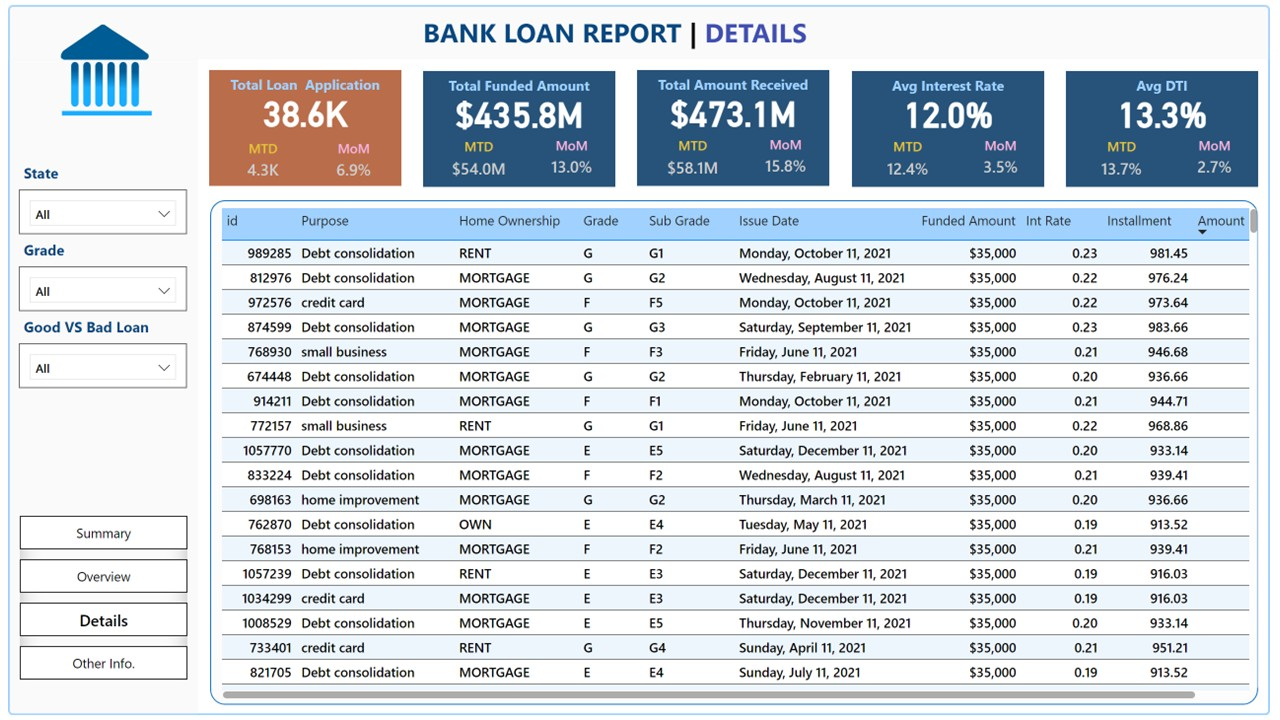

The dashboard page shown, as its layout file describes it:
{"tool":"powerbi","page":{"name":"Details","canvas":[1280,720],"ordinal":2},"visuals":[{"type":"shape","box":[0,0,1280,720.2],"z":0},{"type":"shape","box":[638.4,65.8,195,117.5],"z":0,"group":"g2"},{"type":"shape","box":[203.8,66.2,195,117.5],"z":0,"group":"g1"},{"type":"shape","box":[420.5,67,195,117.5],"z":0,"group":"g5"},{"type":"shape","box":[856.2,67,195,117.5],"z":0,"group":"g3"},{"type":"shape","box":[1072.8,67,195,117.5],"z":0,"group":"g4"},{"type":"card","fields":{"Values":["bank_loan_data.Total Amount Received"]},"box":[638.4,83.3,195,47.5],"z":1000,"group":"g2"},{"type":"card","fields":{"Values":["bank_loan_data.Total Loan Applications"]},"box":[203.8,83.7,195,47.5],"z":1000,"group":"g1"},{"type":"card","fields":{"Values":["bank_loan_data.Total Funded Amount"]},"box":[420.5,84.5,195,47.5],"z":1000,"group":"g5"},{"type":"card","fields":{"Values":["bank_loan_data.Avg Interest Rate"]},"box":[856.2,84.5,195,47.5],"z":1000,"group":"g3"},{"type":"card","fields":{"Values":["bank_loan_data.Avg DTI"]},"box":[1072.8,84.5,195,47.5],"z":1000,"group":"g4"},{"type":"shape","box":[205.1,197.9,1062.9,511.5],"z":1000},{"type":"textbox","box":[638.4,65.8,195,35],"z":2000,"group":"g2"},{"type":"group","id":"g1","title":"Group 1","box":[203.8,66.2,195,117.5],"z":2000},{"type":"textbox","box":[203.8,66.2,195,35],"z":2000,"group":"g1"},{"type":"textbox","box":[420.5,67,195,35],"z":2000,"group":"g5"},{"type":"textbox","box":[856.2,67,195,35],"z":2000,"group":"g3"},{"type":"textbox","box":[1072.8,67,195,35],"z":2000,"group":"g4"},{"type":"group","id":"g2","title":"Group 1","box":[638.4,65.8,196.1,118.9],"z":3000},{"type":"card","title":"MTD","fields":{"Values":["bank_loan_data.MTD Total Amount Received"]},"box":[660.6,133,68.8,50],"z":3000,"group":"g2"},{"type":"card","title":"MTD","fields":{"Values":["bank_loan_data.MTD Funded Amount"]},"box":[442.7,134.2,68.8,50],"z":3000,"group":"g5"},{"type":"card","title":"MTD","fields":{"Values":["bank_loan_data.MTD Avg Interest Rate"]},"box":[878.4,134.2,68.8,50],"z":3000,"group":"g3"},{"type":"card","title":"MTD","fields":{"Values":["bank_loan_data.MTD Avg DIT"]},"box":[1095,134.2,68.8,50],"z":3000,"group":"g4"},{"type":"card","title":"MTD","fields":{"Values":["bank_loan_data.MTD Loan Applications"]},"box":[227.6,136.2,61.2,47.5],"z":3000,"group":"g1"},{"type":"group","id":"g3","title":"Group 1","box":[856.2,67,194.8,118.9],"z":4000},{"type":"card","title":"MoM","fields":{"Values":["bank_loan_data.MoM Total Amount Received"]},"box":[758.1,131.7,61.2,47.5],"z":4000,"group":"g2"},{"type":"card","title":"MoM","fields":{"Values":["bank_loan_data.MoM Total Funded Amount"]},"box":[540.2,132.9,61.2,47.5],"z":4000,"group":"g5"},{"type":"card","title":"MoM","fields":{"Values":["bank_loan_data.MoM Avg Interest Rate"]},"box":[975.9,132.9,61.2,47.5],"z":4000,"group":"g3"},{"type":"card","title":"MoM","fields":{"Values":["bank_loan_data.MoM Avg DTI"]},"box":[1192.5,132.9,61.2,47.5],"z":4000,"group":"g4"},{"type":"card","title":"MoM","fields":{"Values":["bank_loan_data.MoM Loan Application"]},"box":[320,136.2,61.2,47.5],"z":4000,"group":"g1"},{"type":"group","id":"g4","title":"Group 1","box":[1072.8,67,194.8,118.9],"z":5000},{"type":"group","id":"g5","title":"Group 1","box":[420.5,67,196.1,118.9],"z":6000},{"type":"shape","box":[1.2,55.3,191.8,664.7],"z":7000},{"type":"tableEx","fields":{"Values":["bank_loan_data.id","bank_loan_data.purpose","bank_loan_data.home_ownership","bank_loan_data.grade","bank_loan_data.sub_grade","bank_loan_data.issue_date","bank_loan_data.Total Funded Amount","Sum(bank_loan_data.int_rate)","Sum(bank_loan_data.installment)","bank_loan_data.Total Amount Received"]},"box":[210.7,201.3,1062,508],"z":8000},{"type":"shape","box":[0,0,1280,55.5],"z":9000},{"type":"textbox","box":[416.2,3.8,447.5,46.2],"z":10000},{"type":"image","box":[30.2,2.4,131.5,127.9],"z":11000},{"type":"slicer","fields":{"Values":["bank_loan_data.grade"]},"box":[11.1,265.1,170.4,45.7],"z":12000},{"type":"textbox","box":[11.1,155.2,69.1,32.1],"z":13000},{"type":"slicer","fields":{"Values":["bank_loan_data.address_state"]},"box":[11.1,187.3,170.4,45.7],"z":14000},{"type":"textbox","box":[11.1,233,69.1,32.1],"z":15000},{"type":"slicer","fields":{"Values":["bank_loan_data.Good VS Bad Loan"]},"box":[11.1,342.9,170.4,45.7],"z":16000},{"type":"textbox","box":[10.9,310.5,154.4,32.6],"z":17000},{"type":"pageNavigator","box":[12.1,517.6,170.1,166.5],"z":18000}]}

Visuals, with their boxes in screenshot pixels (x1, y1, x2, y2), scaled from the page's 1280x720 canvas onto the 1280x720 screenshot:
shape: x1=0, y1=0, x2=1279, y2=719
shape: x1=638, y1=66, x2=833, y2=183
shape: x1=204, y1=66, x2=399, y2=184
shape: x1=420, y1=67, x2=616, y2=184
shape: x1=856, y1=67, x2=1051, y2=184
shape: x1=1073, y1=67, x2=1268, y2=184
card - bank_loan_data.Total Amount Received: x1=638, y1=83, x2=833, y2=131
card - bank_loan_data.Total Loan Applications: x1=204, y1=84, x2=399, y2=131
card - bank_loan_data.Total Funded Amount: x1=420, y1=84, x2=616, y2=132
card - bank_loan_data.Avg Interest Rate: x1=856, y1=84, x2=1051, y2=132
card - bank_loan_data.Avg DTI: x1=1073, y1=84, x2=1268, y2=132
shape: x1=205, y1=198, x2=1268, y2=709
textbox: x1=638, y1=66, x2=833, y2=101
"Group 1" group: x1=204, y1=66, x2=399, y2=184
textbox: x1=204, y1=66, x2=399, y2=101
textbox: x1=420, y1=67, x2=616, y2=102
textbox: x1=856, y1=67, x2=1051, y2=102
textbox: x1=1073, y1=67, x2=1268, y2=102
"Group 1" group: x1=638, y1=66, x2=834, y2=185
"MTD" card: x1=661, y1=133, x2=729, y2=183
"MTD" card: x1=443, y1=134, x2=512, y2=184
"MTD" card: x1=878, y1=134, x2=947, y2=184
"MTD" card: x1=1095, y1=134, x2=1164, y2=184
"MTD" card: x1=228, y1=136, x2=289, y2=184
"Group 1" group: x1=856, y1=67, x2=1051, y2=186
"MoM" card: x1=758, y1=132, x2=819, y2=179
"MoM" card: x1=540, y1=133, x2=601, y2=180
"MoM" card: x1=976, y1=133, x2=1037, y2=180
"MoM" card: x1=1192, y1=133, x2=1254, y2=180
"MoM" card: x1=320, y1=136, x2=381, y2=184
"Group 1" group: x1=1073, y1=67, x2=1268, y2=186
"Group 1" group: x1=420, y1=67, x2=617, y2=186
shape: x1=1, y1=55, x2=193, y2=719
tableEx - bank_loan_data.id x bank_loan_data.purpose: x1=211, y1=201, x2=1273, y2=709
shape: x1=0, y1=0, x2=1279, y2=56
textbox: x1=416, y1=4, x2=864, y2=50
image: x1=30, y1=2, x2=162, y2=130
slicer - bank_loan_data.grade: x1=11, y1=265, x2=182, y2=311
textbox: x1=11, y1=155, x2=80, y2=187
slicer - bank_loan_data.address_state: x1=11, y1=187, x2=182, y2=233
textbox: x1=11, y1=233, x2=80, y2=265
slicer - bank_loan_data.Good VS Bad Loan: x1=11, y1=343, x2=182, y2=389
textbox: x1=11, y1=310, x2=165, y2=343
pageNavigator: x1=12, y1=518, x2=182, y2=684
